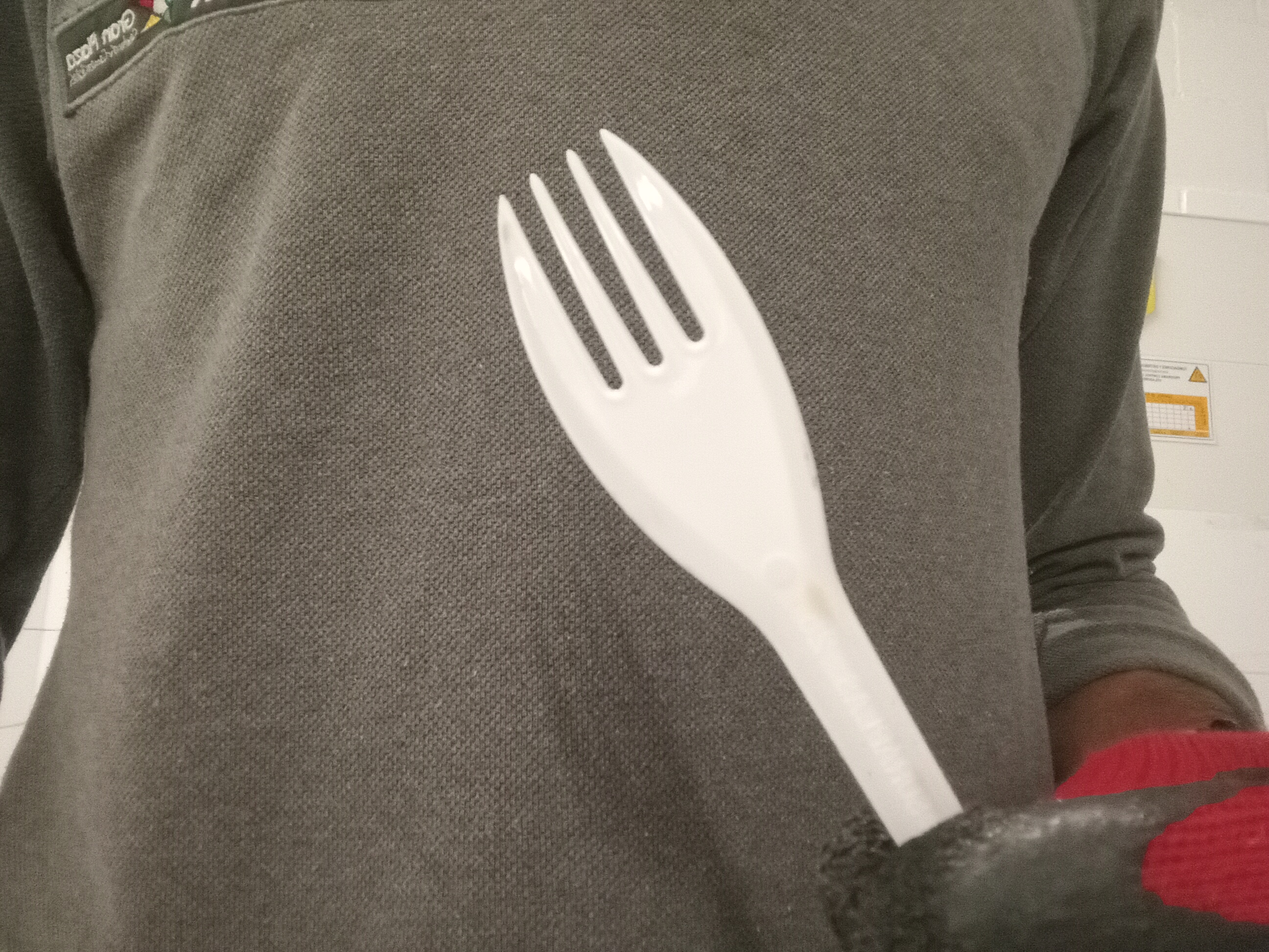Ordinario: (496, 126, 962, 850)
